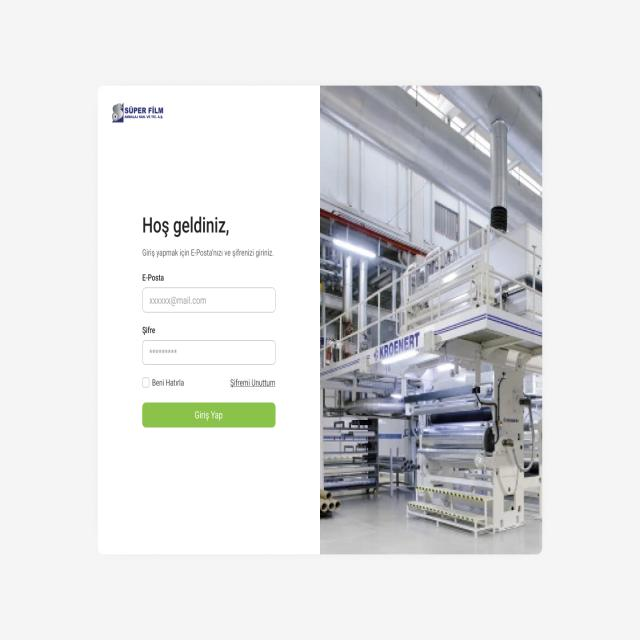QLabel: (142, 216, 230, 238), (138, 247, 275, 258), (227, 378, 277, 388), (194, 409, 223, 421), (140, 273, 165, 281), (141, 326, 156, 334)
VBtn: (142, 401, 276, 428)
VCard: (97, 84, 544, 556)
VCheckbox: (141, 374, 187, 392)
VImg: (321, 89, 541, 554), (104, 95, 179, 130)
VTextField: (142, 287, 276, 313), (142, 340, 276, 365)
